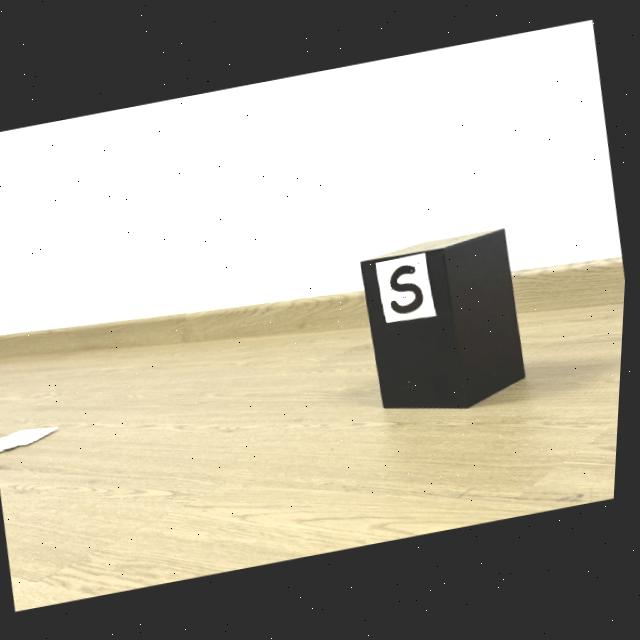S: (393, 266, 427, 314)
